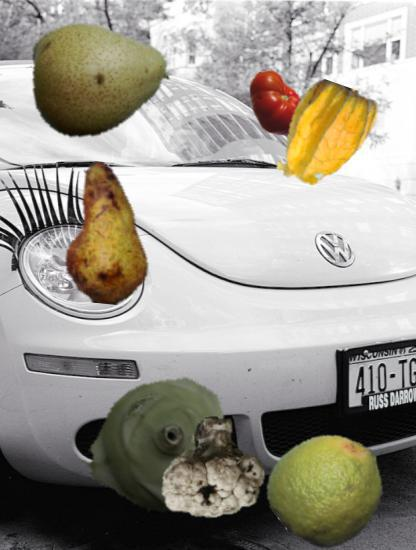Cauliflower: (159, 413, 267, 521)
Kohlrabi: (83, 371, 230, 518)
Limes: (270, 431, 387, 548)
Pear: (30, 7, 172, 149), (40, 163, 181, 304)
Physalis: (273, 83, 382, 192)
Tomato: (241, 68, 311, 138)
